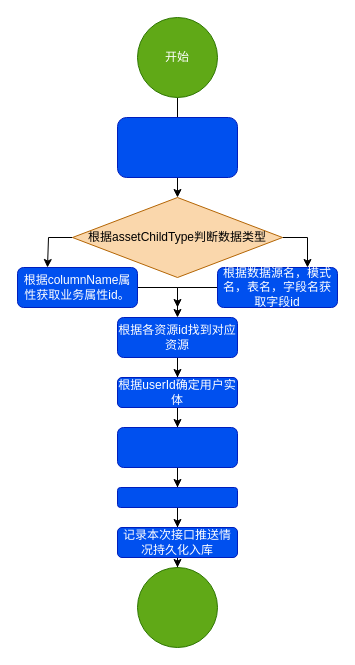
The diagram is 355 pixels wide and 665 high, and some of its shapes have lost their labels. Each missing label, with the centre of its shape:
"对字段或业务属性进行脱敏" belongs at (x=177, y=447).
"结束" belongs at (x=177, y=607).
"解析json，对模版名称进行适配，默认名称为null。" belongs at (x=177, y=147).
"进行授权" belongs at (x=177, y=497).
